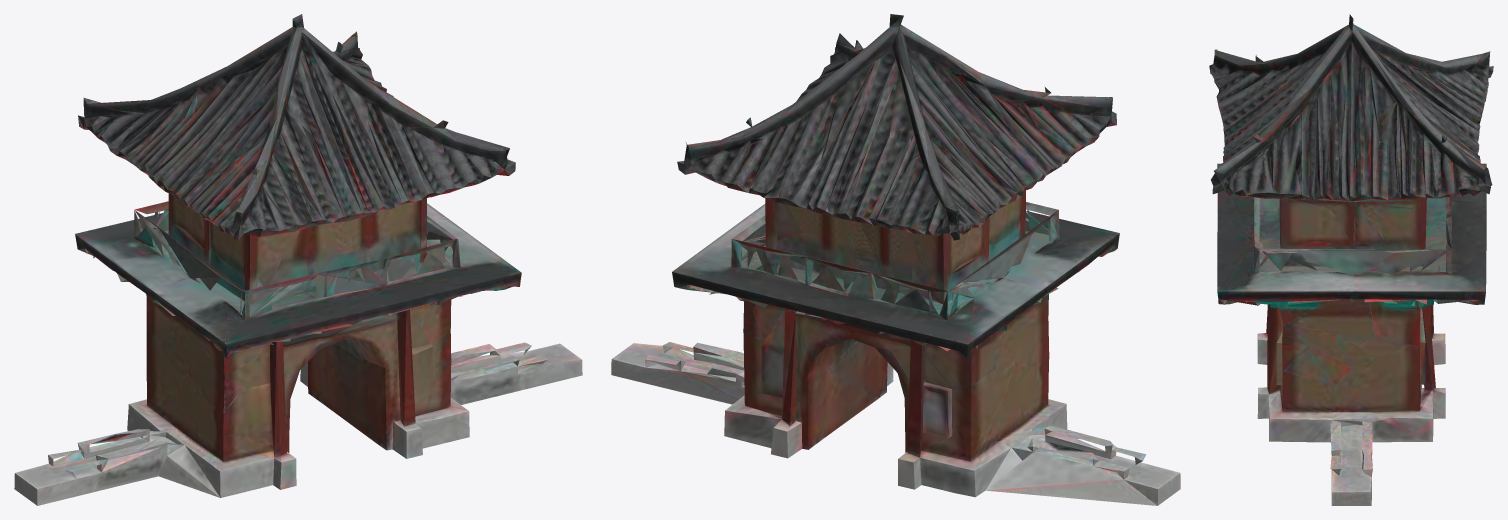
Rendered from wall_gate.glb.
3 renders of one model, left to right at view 1: azimuth 30°, elevation 25°; view 2: azimuth 150°, elevation 25°; view 3: azimuth 270°, elevation 25°, orthographic. The views are drawn at different scales.
Size of the model in its own units: 1.9 by 1.39 by 0.9664.
Materials: 1 (1 with a texture image).
